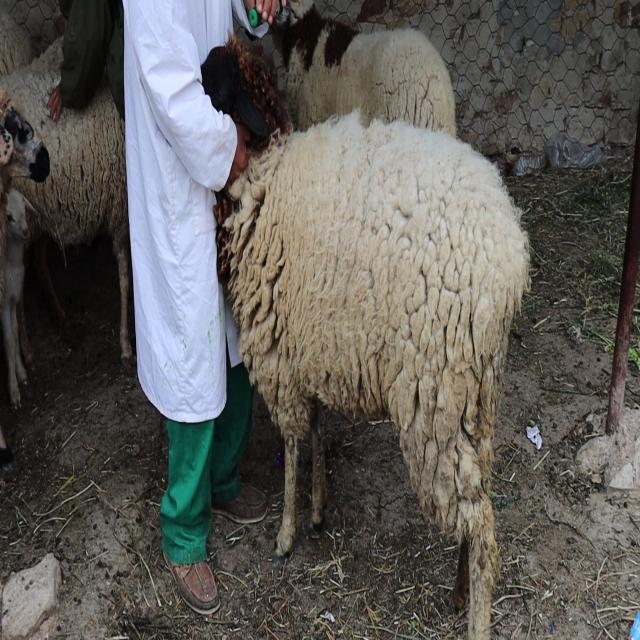Score_3: (201, 33, 530, 639)
